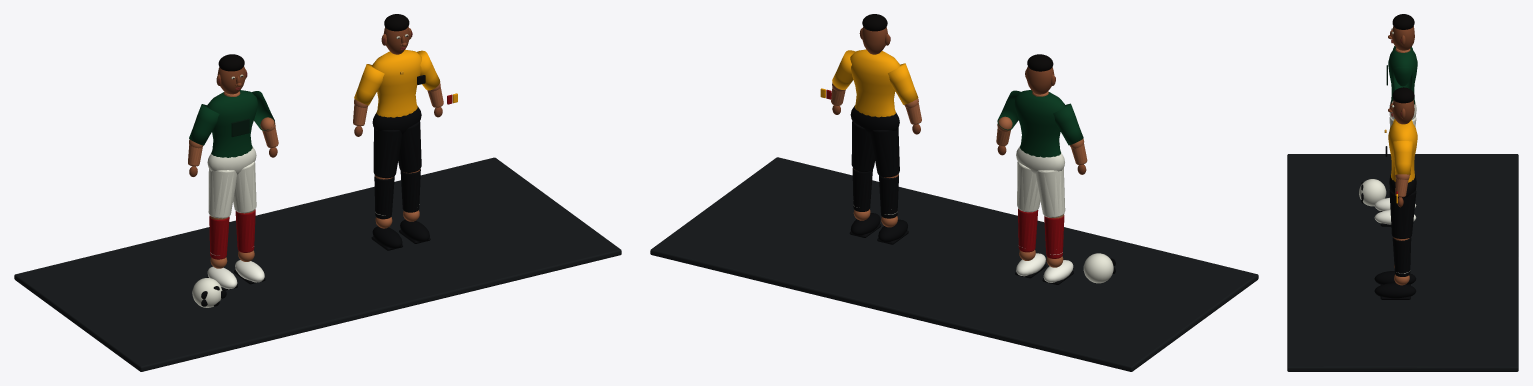
File: jugador_arbitro.obj
3 renders of one model, left to right at view 1: azimuth 30°, elevation 25°; view 2: azimuth 150°, elevation 25°; view 3: azimuth 270°, elevation 25°, orthographic. The views are drawn at different scales.
Visible parts, largest first — view 1: Piso_Piso_gris, ARBITRO_|_camiseta_anatómica_Amarillo_árbitro, CHICHARITO_|_camiseta_anatómica_Verde_selección_mexicana, Jugador_CHICHARITO_muslo_izquierda_Blanco_uniforme, Arbitro_muslo_izquierda_Negro, Jugador_CHICHARITO_muslo_derecha_Blanco_uniforme, Arbitro_muslo_derecha_Negro, Jugador_CHICHARITO_pierna_izquierda_Medias_rojas, Arbitro_pierna_izquierda_Negro, Arbitro_pierna_derecha_Negro, Jugador_CHICHARITO_pierna_derecha_Medias_rojas, ARBITRO_|_manga_anatómica_izquierda_Amarillo_árbitro (+6 smaller); view 2: Piso_Piso_gris, ARBITRO_|_camiseta_anatómica_Amarillo_árbitro, CHICHARITO_|_camiseta_anatómica_Verde_selección_mexicana, Arbitro_muslo_izquierda_Negro, Jugador_CHICHARITO_muslo_izquierda_Blanco_uniforme, Jugador_CHICHARITO_muslo_derecha_Blanco_uniforme, Arbitro_muslo_derecha_Negro, Arbitro_pierna_derecha_Negro, Arbitro_pierna_izquierda_Negro, Jugador_CHICHARITO_pierna_izquierda_Medias_rojas, Jugador_CHICHARITO_pierna_derecha_Medias_rojas, CHICHARITO_|_manga_anatómica_izquierda_Verde_selección_mexicana (+7 smaller); view 3: Piso_Piso_gris, Arbitro_muslo_derecha_Negro, CHICHARITO_|_camiseta_anatómica_Verde_selección_mexicana, ARBITRO_|_camiseta_anatómica_Amarillo_árbitro, Arbitro_pierna_derecha_Negro, ARBITRO_|_manga_anatómica_derecha_Amarillo_árbitro, Balon_de_futbol_Blanco_uniforme, Arbitro_tachon_derecha_Negro, CHICHARITO_|_cráneo_facial_PBR_|_piel_humana, ARBITRO_|_cráneo_facial_PBR_|_piel_humana, Arbitro_tachon_izquierda_Negro, CHICHARITO_|_masa_de_cabello_PBR_|_cabello_castaño_oscuro (+4 smaller).
Part boxes in pixels (<box>): Piso_Piso_gris: <box>14,157,621,371</box>; ARBITRO_|_camiseta_anatómica_Amarillo_árbitro: <box>372,49,421,117</box>; CHICHARITO_|_camiseta_anatómica_Verde_selección_mexicana: <box>207,90,258,157</box>; Jugador_CHICHARITO_muslo_izquierda_Blanco_uniforme: <box>208,168,236,218</box>; Arbitro_muslo_izquierda_Negro: <box>373,128,401,178</box>; Jugador_CHICHARITO_muslo_derecha_Blanco_uniforme: <box>233,161,256,213</box>; Arbitro_muslo_derecha_Negro: <box>398,121,421,172</box>; Jugador_CHICHARITO_pierna_izquierda_Medias_rojas: <box>209,215,229,259</box>; Arbitro_pierna_izquierda_Negro: <box>374,175,394,219</box>; Arbitro_pierna_derecha_Negro: <box>400,169,420,212</box>; Jugador_CHICHARITO_pierna_derecha_Medias_rojas: <box>235,209,255,252</box>; ARBITRO_|_manga_anatómica_izquierda_Amarillo_árbitro: <box>354,64,384,105</box>; Piso_Piso_gris: <box>650,157,1258,371</box>; ARBITRO_|_camiseta_anatómica_Amarillo_árbitro: <box>850,49,900,117</box>; CHICHARITO_|_camiseta_anatómica_Verde_selección_mexicana: <box>1014,90,1065,157</box>; Arbitro_muslo_izquierda_Negro: <box>870,127,899,177</box>; Jugador_CHICHARITO_muslo_izquierda_Blanco_uniforme: <box>1035,168,1065,217</box>; Jugador_CHICHARITO_muslo_derecha_Blanco_uniforme: <box>1017,161,1040,212</box>; Arbitro_muslo_derecha_Negro: <box>851,121,874,171</box>; Arbitro_pierna_derecha_Negro: <box>852,168,872,211</box>; Arbitro_pierna_izquierda_Negro: <box>879,174,898,218</box>; Jugador_CHICHARITO_pierna_izquierda_Medias_rojas: <box>1044,215,1064,258</box>; Jugador_CHICHARITO_pierna_derecha_Medias_rojas: <box>1018,208,1038,252</box>; CHICHARITO_|_manga_anatómica_izquierda_Verde_selección_mexicana: <box>1053,103,1083,145</box>; Piso_Piso_gris: <box>1287,154,1518,371</box>; Arbitro_muslo_derecha_Negro: <box>1389,190,1416,238</box>; CHICHARITO_|_camiseta_anatómica_Verde_selección_mexicana: <box>1388,47,1417,104</box>; ARBITRO_|_camiseta_anatómica_Amarillo_árbitro: <box>1388,120,1417,182</box>; Arbitro_pierna_derecha_Negro: <box>1392,237,1411,276</box>; ARBITRO_|_manga_anatómica_derecha_Amarillo_árbitro: <box>1393,141,1412,174</box>; Balon_de_futbol_Blanco_uniforme: <box>1359,179,1386,206</box>; Arbitro_tachon_derecha_Negro: <box>1374,283,1416,298</box>; CHICHARITO_|_cráneo_facial_PBR_|_piel_humana: <box>1392,26,1414,50</box>; ARBITRO_|_cráneo_facial_PBR_|_piel_humana: <box>1392,100,1414,124</box>; Arbitro_tachon_izquierda_Negro: <box>1374,271,1416,284</box>; CHICHARITO_|_masa_de_cabello_PBR_|_cabello_castaño_oscuro: <box>1392,14,1414,29</box>.
Bounding box in the file's own units: 7 × 3.23 × 3.2.
